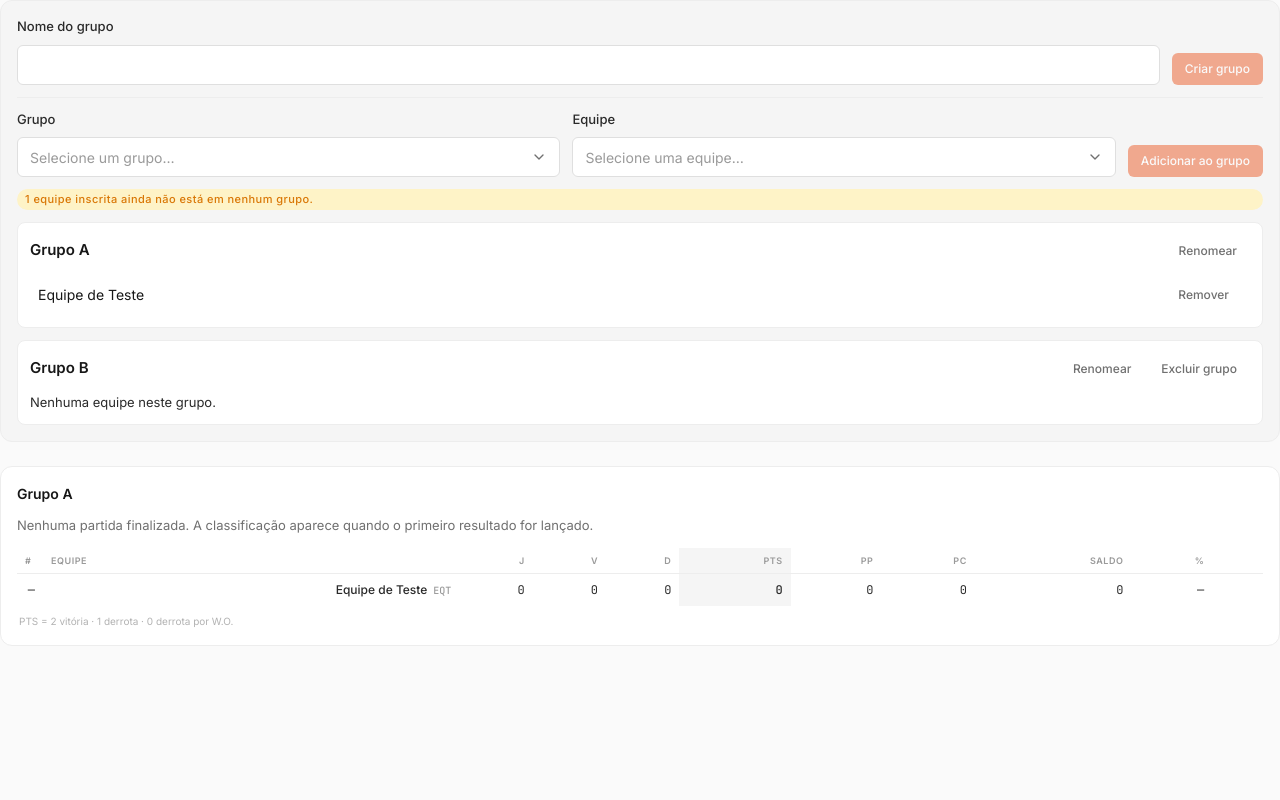
Test: GroupsTab › explains a non-empty group deletion from the api error code
Click the button "Excluir grupo".
click(1199, 368)  # box x1=1148 y1=352 x2=1250 y2=384
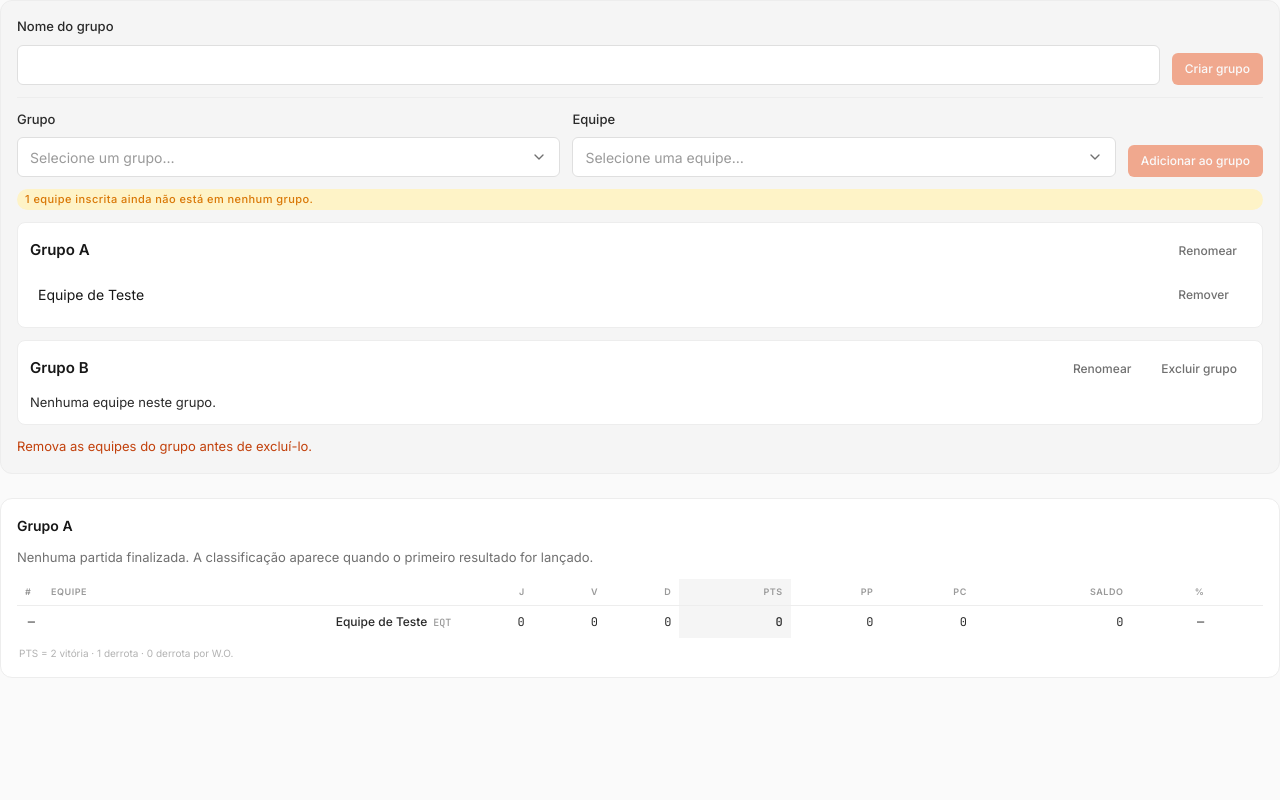
Result: the message reads "Remova as equipes do grupo antes de excluí-lo." at x1=17 y1=438 x2=312 y2=454
